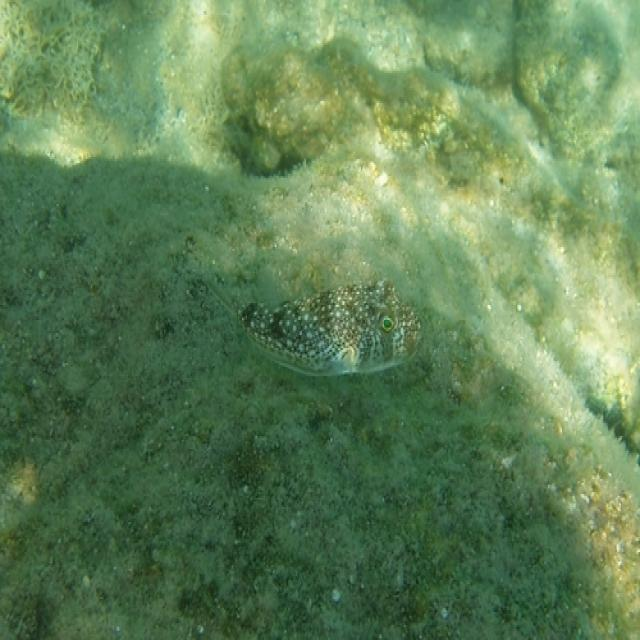Balik: (239, 281, 421, 376)
